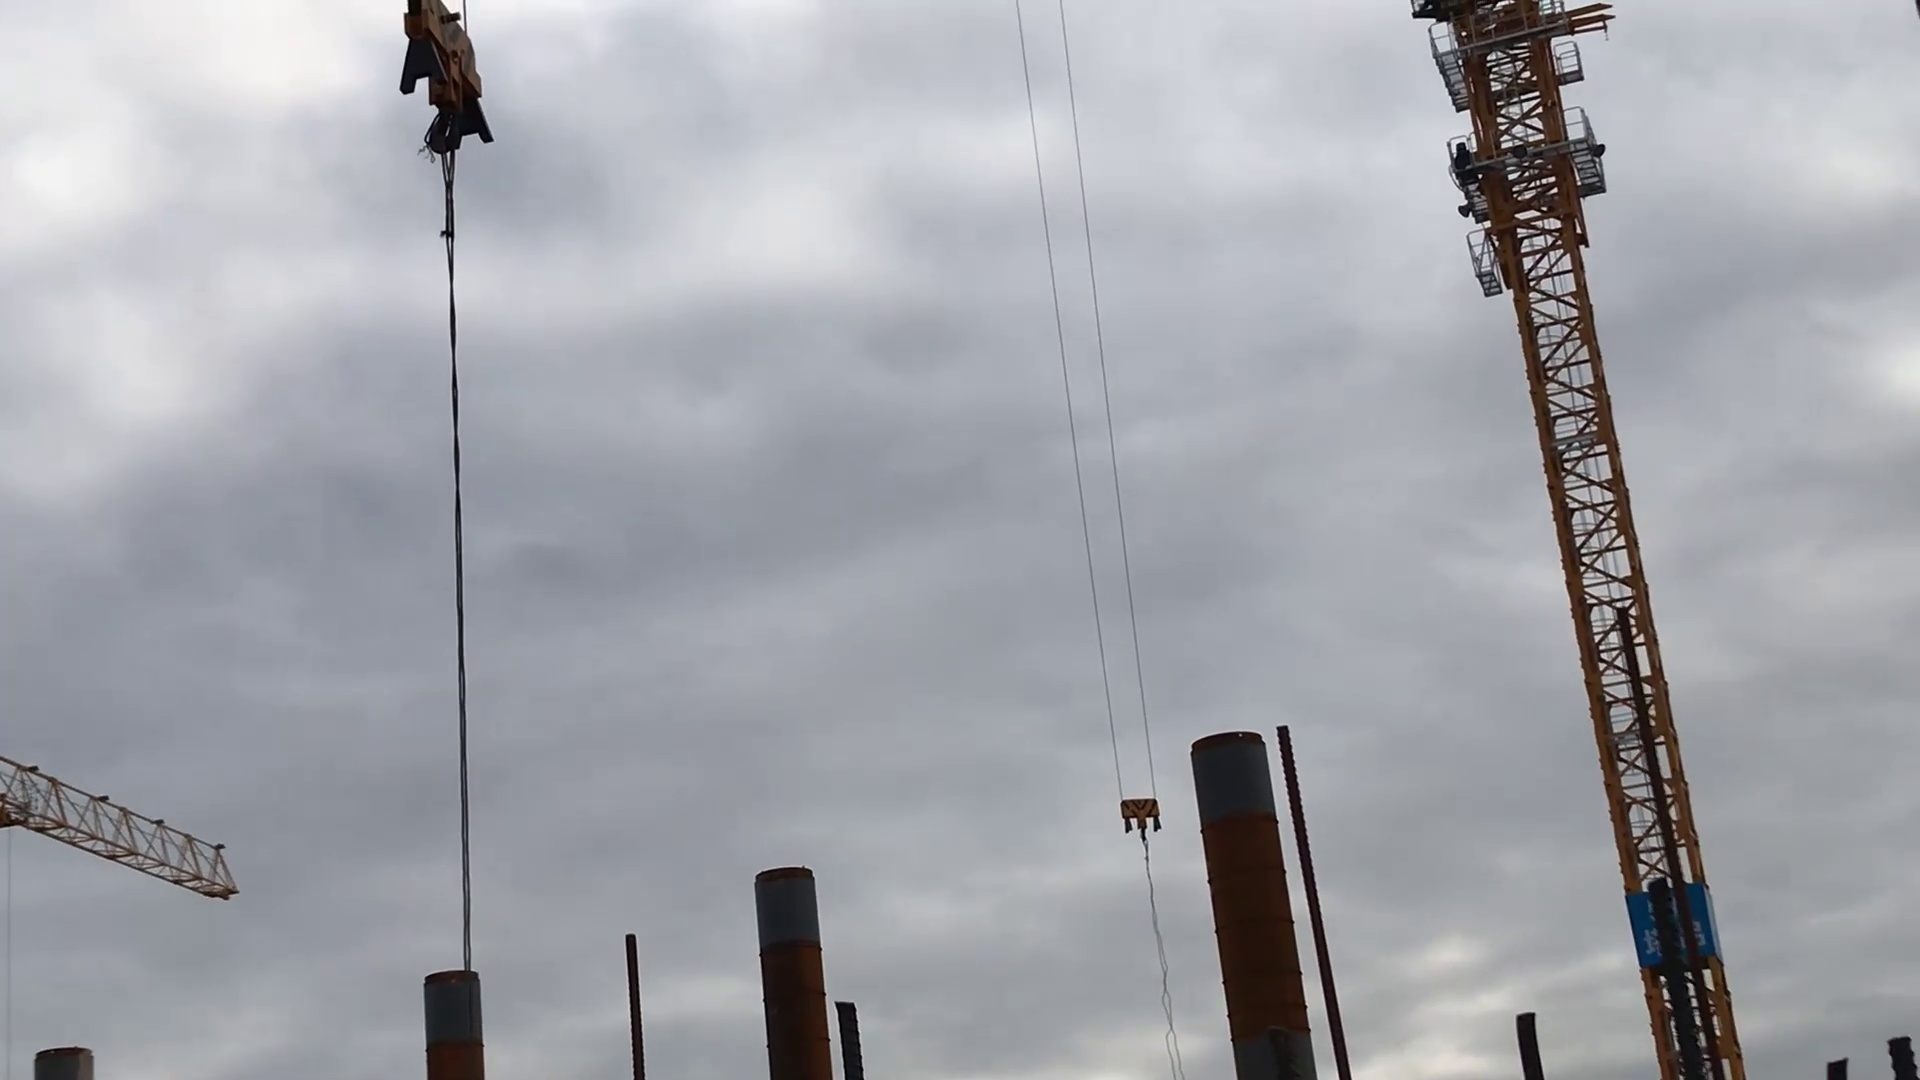hook: (375, 1, 512, 175), (1116, 793, 1168, 848)
